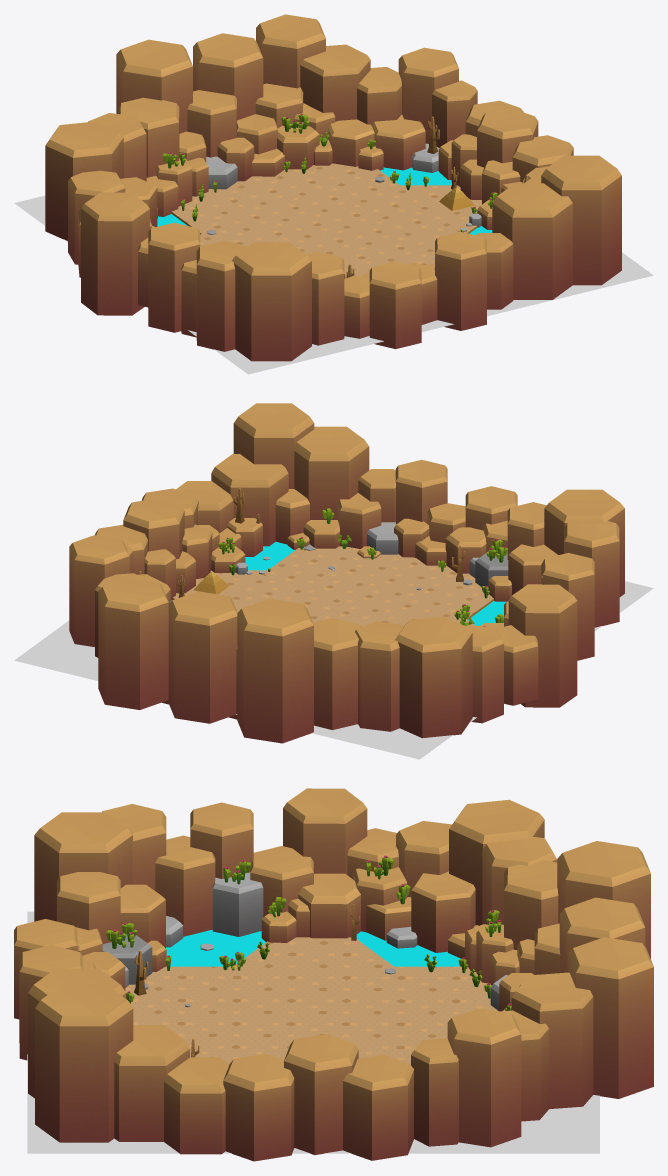
File: Desert_Map.glb
3 views of the same model, one above another, from view 1: azimuth 30°, elevation 25°; view 2: azimuth 150°, elevation 25°; view 3: azimuth 270°, elevation 25° (orthographic). The views are drawn at different scales.
Parts seen in each view (by area): view 1: SM_Nen, Cylinder.018, Cylinder.009, Cylinder.038, Cylinder.016, Cylinder.017, Cylinder.021, Cylinder.091, Cylinder.089, Cylinder.035, Cylinder.024, Cylinder.040 (+39 smaller); view 2: SM_Nen, Cylinder.091, Cylinder.090, Cylinder.089, Cylinder.017, Cylinder.038, Plane, Cylinder.009, Cylinder.072, Cylinder.048, Cylinder.016, Cylinder.052 (+33 smaller); view 3: SM_Nen, Cylinder.016, Cylinder.090, Cylinder.052, Plane, Cylinder.088, Cylinder.079, Cylinder.018, Cylinder.076, Cylinder.078, Cylinder.006, Cylinder.008 (+37 smaller).
Boxes of the visible parts, x1,y1,x2,y2 form: SM_Nen: [171, 163, 481, 277]; Cylinder.018: [231, 242, 311, 361]; Cylinder.009: [492, 183, 572, 299]; Cylinder.038: [81, 192, 149, 315]; Cylinder.016: [541, 155, 621, 285]; Cylinder.017: [45, 121, 123, 240]; Cylinder.021: [435, 232, 486, 330]; Cylinder.091: [116, 39, 192, 133]; Cylinder.089: [193, 33, 263, 120]; Cylinder.035: [196, 240, 247, 351]; Cylinder.024: [369, 261, 421, 349]; Cylinder.040: [148, 222, 200, 332]; SM_Nen: [173, 546, 493, 626]; Cylinder.091: [237, 598, 313, 743]; Cylinder.090: [98, 577, 168, 709]; Cylinder.089: [168, 591, 237, 723]; Cylinder.017: [395, 616, 472, 738]; Cylinder.038: [508, 584, 577, 707]; Plane: [14, 581, 653, 759]; Cylinder.009: [294, 426, 369, 519]; Cylinder.072: [313, 618, 361, 729]; Cylinder.048: [355, 621, 404, 731]; Cylinder.016: [233, 403, 314, 488]; Cylinder.052: [69, 535, 129, 646]; SM_Nen: [125, 937, 498, 1064]; Cylinder.016: [35, 984, 133, 1142]; Cylinder.090: [568, 937, 653, 1098]; Cylinder.052: [447, 1008, 521, 1147]; Plane: [27, 911, 599, 1153]; Cylinder.088: [511, 972, 593, 1108]; Cylinder.079: [223, 1053, 294, 1161]; Cylinder.018: [34, 812, 132, 921]; Cylinder.076: [343, 1054, 413, 1160]; Cylinder.078: [284, 1034, 358, 1155]; Cylinder.006: [114, 1025, 189, 1141]; Cylinder.008: [164, 1057, 229, 1154].
Bounding box in the file's own units: 221 × 58.99 × 220.
Materials: 8 (6 with a texture image).
